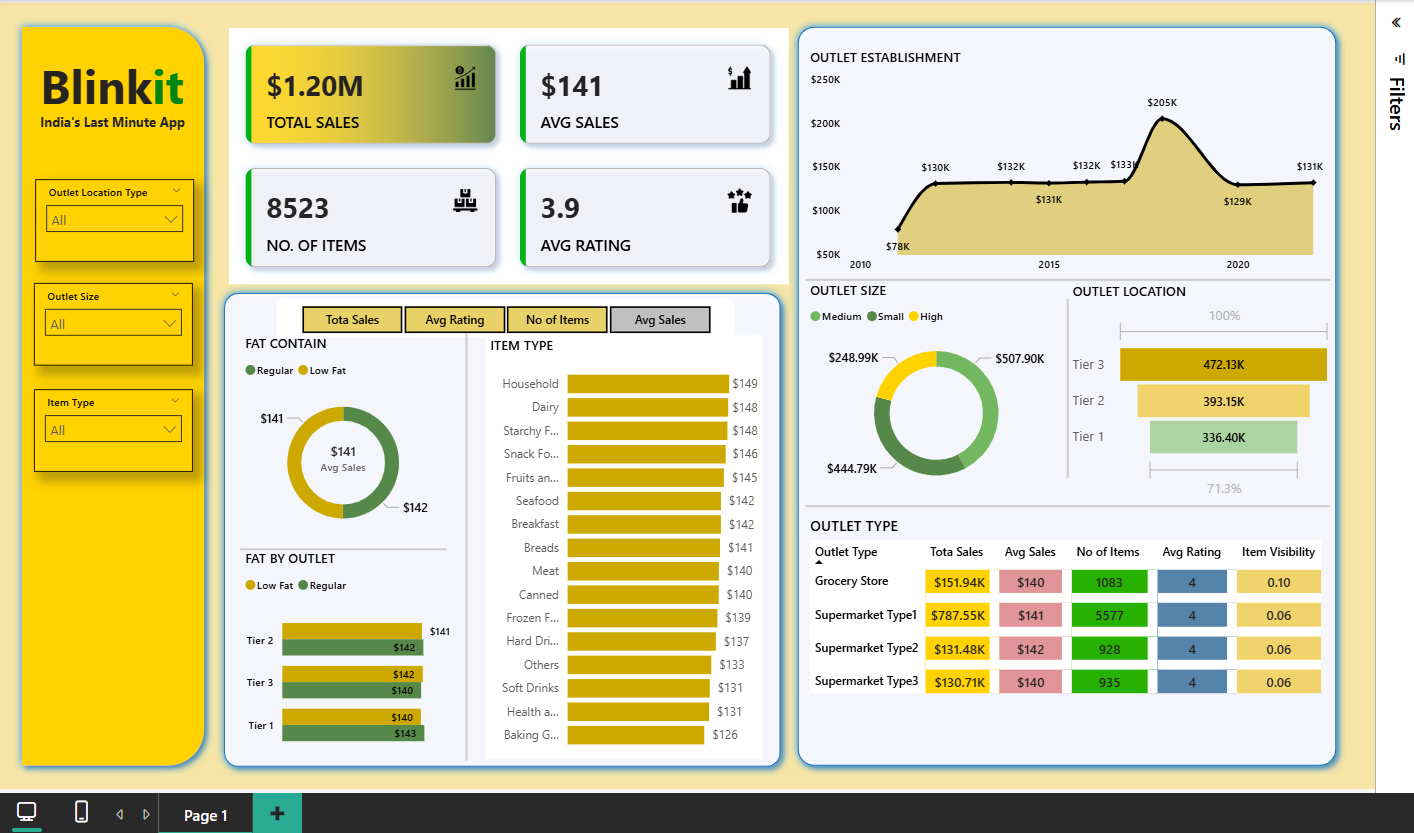

What the dashboard file says about the page in this screenshot:
{"tool":"powerbi","page":{"name":"Page 1","canvas":[1400,800],"ordinal":0},"visuals":[{"type":"shape","box":[14.5,15.8,203.9,769.7],"z":0},{"type":"textbox","box":[36.9,45.8,161.5,75],"z":1000},{"type":"textbox","box":[36.9,106.8,170.4,29.3],"z":2000},{"type":"cardVisual","fields":{"Data":["BlinkIT Grocery Data.Tota Sales","BlinkIT Grocery Data.Avg Sales","BlinkIT Grocery Data.No of Items","BlinkIT Grocery Data.Avg Rating"]},"box":[234.2,25,569.7,260.5],"z":3000},{"type":"shape","box":[219.7,285.5,584.2,500],"z":4000},{"type":"donutChart","title":"FAT CONTAIN","fields":{"Y":["BlinkIT Grocery Data.Avg Sales"],"Category":["BlinkIT Grocery Data.Item Fat Content"]},"box":[245.5,337,209.8,216.2],"z":5000},{"type":"slicer","fields":{"Values":["Matrics.Matrics"]},"box":[282.3,301.4,465.5,39.4],"z":6000},{"type":"cardVisual","fields":{"Data":["BlinkIT Grocery Data.Avg Sales"]},"box":[288.6,413.4,123.5,98.3],"z":7000},{"type":"clusteredBarChart","title":"FAT BY OUTLET","fields":{"Y":["BlinkIT Grocery Data.Avg Sales"],"Category":["BlinkIT Grocery Data.Outlet Location Type"],"Series":["BlinkIT Grocery Data.Item Fat Content"]},"box":[245.7,555.8,219.3,219.3],"z":8000},{"type":"shape","box":[245.5,544.3,209.8,22.9],"z":9000},{"type":"shape","box":[455.3,335.8,40.7,435],"z":10000},{"type":"barChart","title":"ITEM TYPE","fields":{"Y":["BlinkIT Grocery Data.Avg Sales"],"Category":["BlinkIT Grocery Data.Item Type"]},"box":[495.3,337.7,282.3,431],"z":11000},{"type":"shape","box":[803.9,15.8,565.8,769.7],"z":12000},{"type":"lineChart","title":"OUTLET ESTABLISHMENT","fields":{"Category":["BlinkIT Grocery Data.Outlet Establishment Year"],"Y":["BlinkIT Grocery Data.Tota Sales"]},"box":[820.3,45.8,534.2,237.8],"z":13000},{"type":"shape","box":[820.3,278.5,534.2,6.4],"z":14000},{"type":"donutChart","title":"OUTLET SIZE","fields":{"Y":["BlinkIT Grocery Data.Tota Sales"],"Category":["BlinkIT Grocery Data.Outlet Size"]},"box":[820.3,282.3,267.1,225.1],"z":15000},{"type":"shape","box":[1067,301.4,40.7,181.9],"z":16000},{"type":"funnel","title":"OUTLET LOCATION","fields":{"Y":["Sum(BlinkIT Grocery Data.Sales)"],"Category":["BlinkIT Grocery Data.Outlet Location Type"]},"box":[1087.4,283.6,274,225],"z":17000},{"type":"shape","box":[820.3,508.7,534.2,6.4],"z":18000},{"type":"pivotTable","title":"OUTLET TYPE","fields":{"Rows":["BlinkIT Grocery Data.Outlet Type"],"Values":["BlinkIT Grocery Data.Tota Sales","BlinkIT Grocery Data.Avg Sales","BlinkIT Grocery Data.No of Items","BlinkIT Grocery Data.Avg Rating","Avg(BlinkIT Grocery Data.Item Visibility)"]},"box":[820.3,521.4,534.2,251.8],"z":19000},{"type":"slicer","fields":{"Values":["BlinkIT Grocery Data.Outlet Location Type"]},"box":[36.9,179.3,161.5,83.9],"z":20000},{"type":"slicer","fields":{"Values":["BlinkIT Grocery Data.Item Type"]},"box":[35.6,393,161.5,83.9],"z":21000},{"type":"slicer","fields":{"Values":["BlinkIT Grocery Data.Outlet Size"]},"box":[35.6,284.9,161.5,83.9],"z":22000}]}

Visuals, with their boxes in screenshot pixels (x1, y1, x2, y2):
shape: (0,23,195,790)
textbox: (15,53,176,128)
textbox: (15,114,184,143)
cardVisual - BlinkIT Grocery Data.Tota Sales x BlinkIT Grocery Data.Avg Sales: (211,32,779,292)
shape: (197,292,779,790)
"FAT CONTAIN" donutChart: (222,343,431,558)
slicer - Matrics.Matrics: (259,308,723,347)
cardVisual - BlinkIT Grocery Data.Avg Sales: (265,419,388,517)
"FAT BY OUTLET" clusteredBarChart: (223,561,441,779)
shape: (222,550,431,572)
shape: (431,342,472,775)
"ITEM TYPE" barChart: (471,344,752,773)
shape: (779,23,1342,790)
"OUTLET ESTABLISHMENT" lineChart: (795,53,1327,290)
shape: (795,285,1327,291)
"OUTLET SIZE" donutChart: (795,289,1061,513)
shape: (1041,308,1081,489)
"OUTLET LOCATION" funnel: (1061,290,1334,514)
shape: (795,514,1327,520)
"OUTLET TYPE" pivotTable: (795,527,1327,777)
slicer - BlinkIT Grocery Data.Outlet Location Type: (15,186,176,270)
slicer - BlinkIT Grocery Data.Item Type: (13,399,174,482)
slicer - BlinkIT Grocery Data.Outlet Size: (13,291,174,375)
